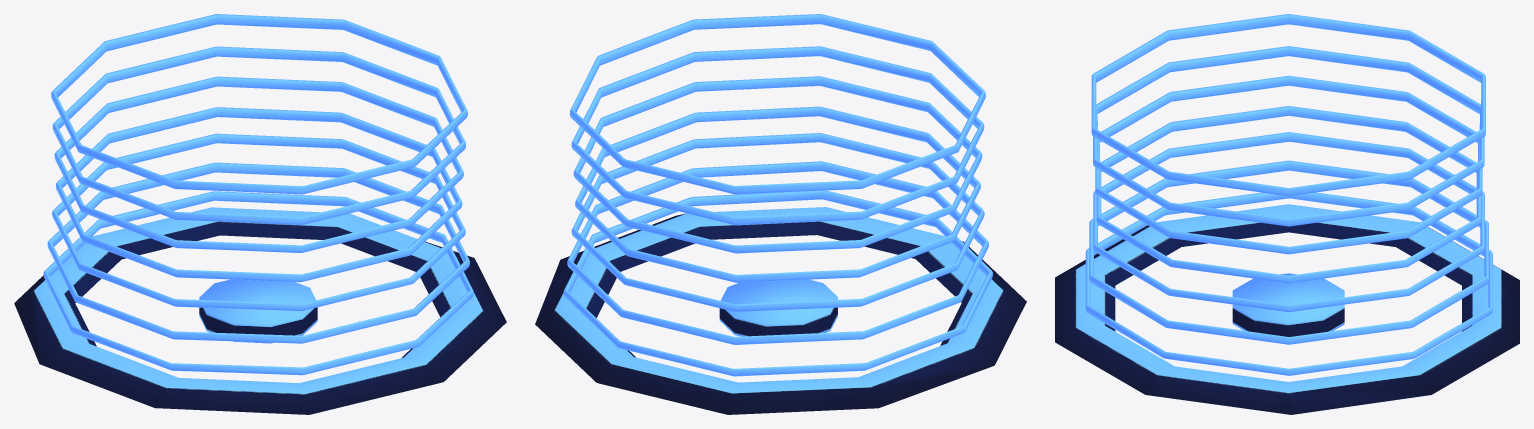
Rendered from spawn.glb.
3 views of the same model, side by side, from view 1: azimuth 30°, elevation 25°; view 2: azimuth 150°, elevation 25°; view 3: azimuth 270°, elevation 25° (orthographic).
Parts seen in each view (by area): view 1: Torus.009, spg_außen; view 2: Torus.009, spg_außen; view 3: Torus.009, spg_außen.
Boxes of the visible parts, bbox=[...] form: Torus.009: bbox=[43, 14, 473, 375]; spg_außen: bbox=[14, 207, 506, 414]; Torus.009: bbox=[563, 14, 992, 376]; spg_außen: bbox=[535, 207, 1026, 414]; Torus.009: bbox=[1085, 14, 1492, 375]; spg_außen: bbox=[1055, 204, 1519, 414].
Size of the model in its own units: 0.6395 by 0.307 by 0.5981.
2 materials, 1 textured.
